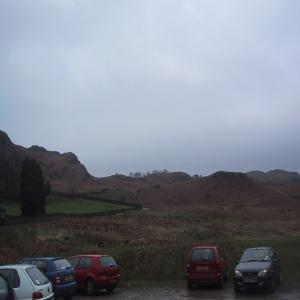Vehicle-registration-plate: (244, 277, 258, 284), (197, 267, 209, 272), (66, 275, 74, 281)
